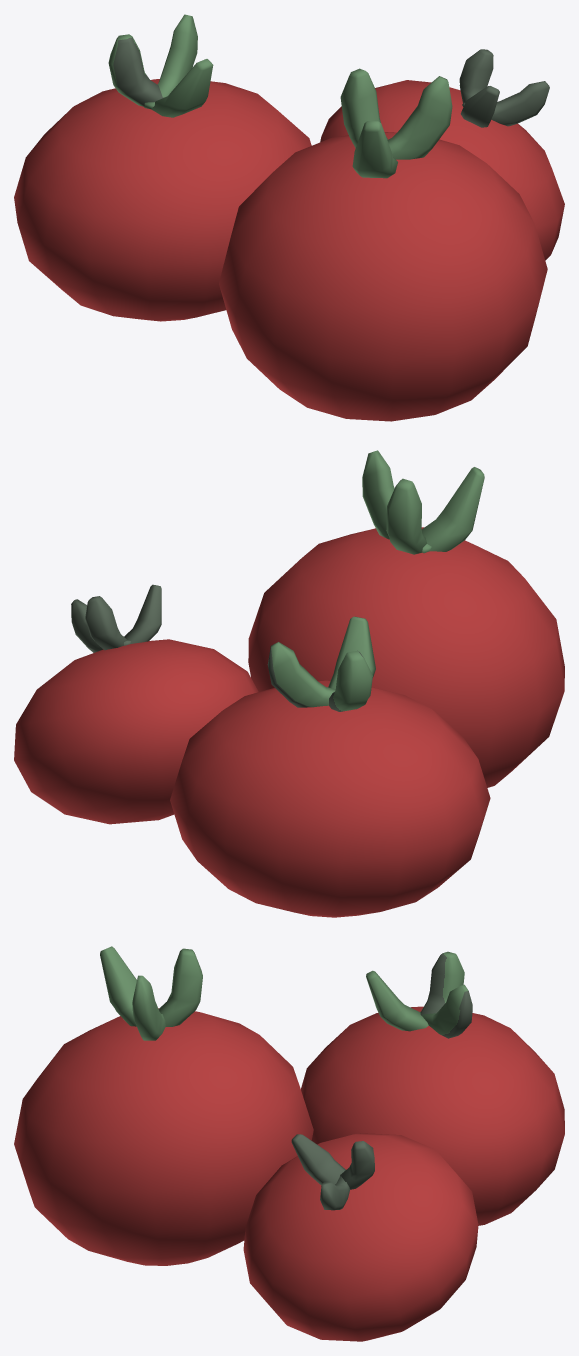
The model's file is Item_02.fbx.
The picture shows the model from 3 angles, top to bottom: view 1: azimuth 30°, elevation 25°; view 2: azimuth 150°, elevation 25°; view 3: azimuth 270°, elevation 25°; orthographic projection. The views are drawn at different scales.
Parts seen in each view (by area): view 1: Sphere; view 2: Sphere; view 3: Sphere.
Boxes of the visible parts, box(x1,y1,x2,y2) form: Sphere: box(14, 14, 564, 421); Sphere: box(14, 450, 564, 917); Sphere: box(14, 946, 564, 1341).
Bounding box in the file's own units: 67.96 × 43.79 × 73.74.
